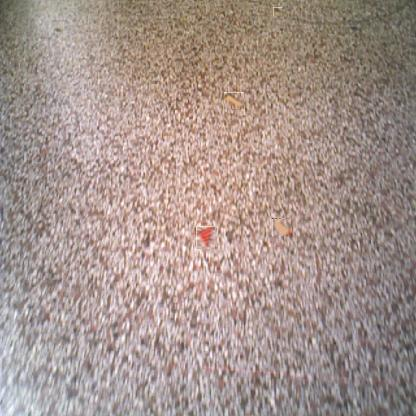dirty: (195, 227, 216, 248), (224, 92, 245, 109), (272, 218, 291, 236), (273, 7, 282, 16), (217, 10, 225, 18)
